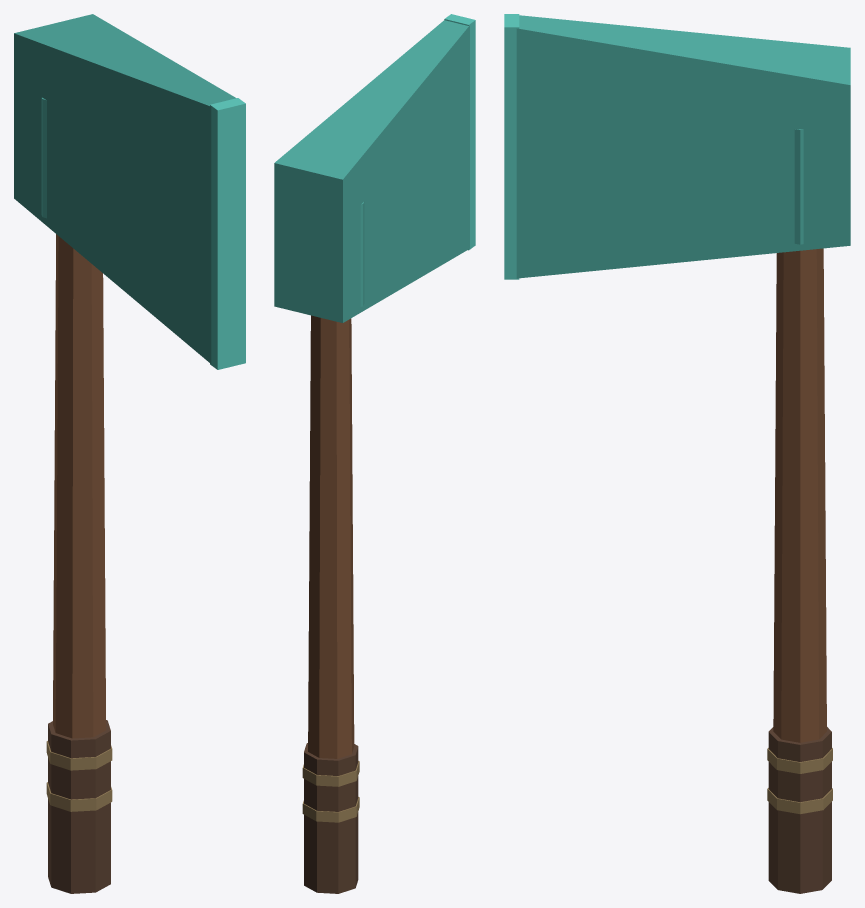
File: tool_axe_alloy.glb
3 renders of one model, left to right at view 1: azimuth 30°, elevation 25°; view 2: azimuth 150°, elevation 25°; view 3: azimuth 270°, elevation 25°, orthographic. The views are drawn at different scales.
Visible parts, largest first — view 1: tool_axe_alloy; view 2: tool_axe_alloy; view 3: tool_axe_alloy.
Part boxes in pixels (x1=…): tool_axe_alloy: x1=14, y1=14, x2=245, y2=893; tool_axe_alloy: x1=274, y1=14, x2=475, y2=893; tool_axe_alloy: x1=504, y1=14, x2=850, y2=893.
Size of the model in its own units: 0.07 by 0.75 by 0.274.
